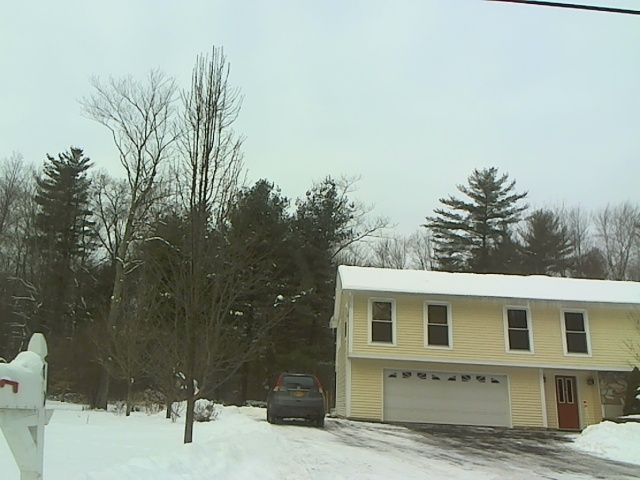Ploughed: (297, 420, 629, 476)
